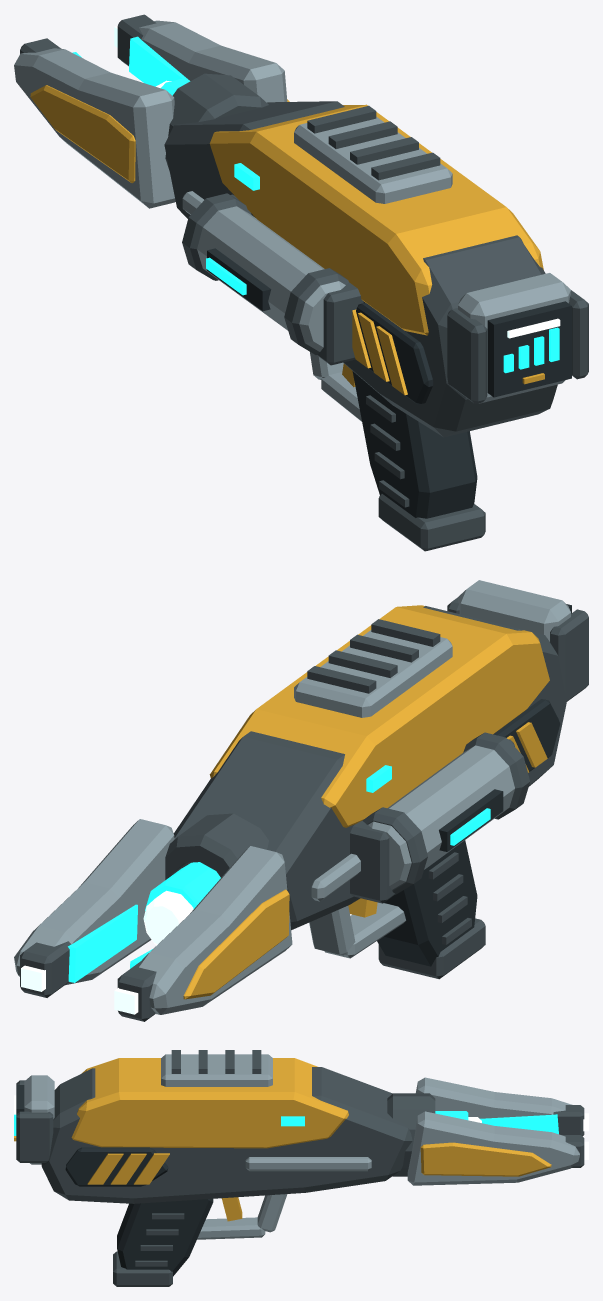
Rendered from engineering_tool.glb.
3 renders of one model, top to bottom at view 1: azimuth 30°, elevation 25°; view 2: azimuth 150°, elevation 25°; view 3: azimuth 270°, elevation 25°, orthographic. The views are drawn at different scales.
Visible parts, largest first — view 1: Extractor housing | Geometry, Twin forward emitter | Geometry, Repair trigger grip | Geometry, Coolant reservoir | Geometry, Rear diagnostics | Geometry; view 2: Extractor housing | Geometry, Twin forward emitter | Geometry, Coolant reservoir | Geometry, Repair trigger grip | Geometry, Rear diagnostics | Geometry; view 3: Extractor housing | Geometry, Twin forward emitter | Geometry, Repair trigger grip | Geometry, Rear diagnostics | Geometry.
Part boxes in pixels (<box>): Extractor housing | Geometry: <box>164,101,557,437</box>; Twin forward emitter | Geometry: <box>14,14,289,208</box>; Repair trigger grip | Geometry: <box>310,352,485,551</box>; Coolant reservoir | Geometry: <box>182,193,363,365</box>; Rear diagnostics | Geometry: <box>447,273,588,404</box>; Extractor housing | Geometry: <box>173,605,566,929</box>; Twin forward emitter | Geometry: <box>14,813,292,1021</box>; Coolant reservoir | Geometry: <box>350,732,530,903</box>; Repair trigger grip | Geometry: <box>309,840,485,979</box>; Rear diagnostics | Geometry: <box>447,580,588,701</box>; Extractor housing | Geometry: <box>41,1050,412,1203</box>; Twin forward emitter | Geometry: <box>387,1077,588,1185</box>; Repair trigger grip | Geometry: <box>113,1194,287,1286</box>; Rear diagnostics | Geometry: <box>14,1075,54,1164</box>.
Size of the model in its own units: 0.16 by 0.26 by 0.62.
